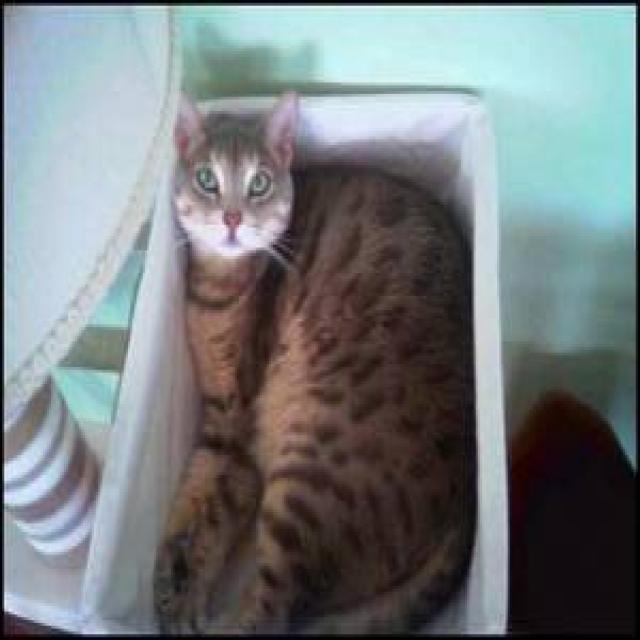Bengal: (173, 88, 294, 256)
